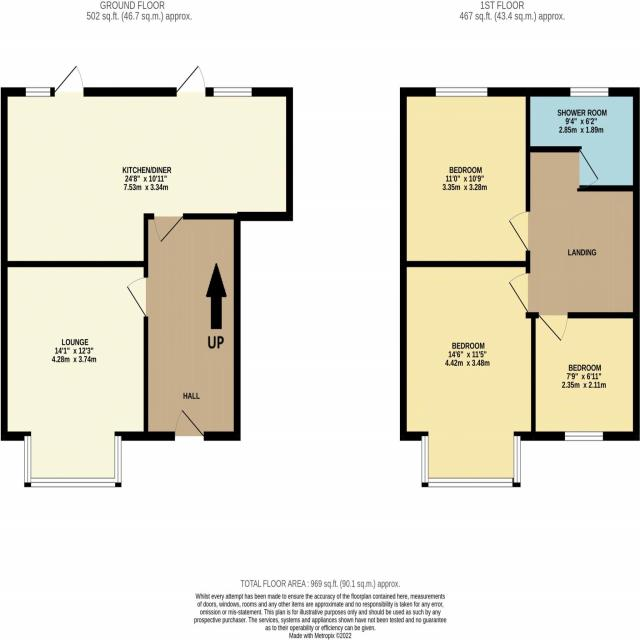DOOR: (51, 61, 86, 97), (171, 405, 205, 441), (151, 213, 188, 246), (536, 312, 570, 346), (507, 208, 531, 256), (174, 64, 207, 97), (576, 146, 600, 191), (506, 271, 530, 312), (124, 276, 148, 316)
ROOM: (0, 60, 293, 268), (0, 261, 148, 489), (400, 260, 537, 488), (121, 212, 241, 441), (400, 87, 530, 268), (531, 312, 640, 442)
WINDOW: (22, 432, 123, 490), (420, 434, 522, 490), (433, 85, 490, 99), (568, 83, 610, 101), (211, 84, 254, 98), (23, 85, 51, 98)
